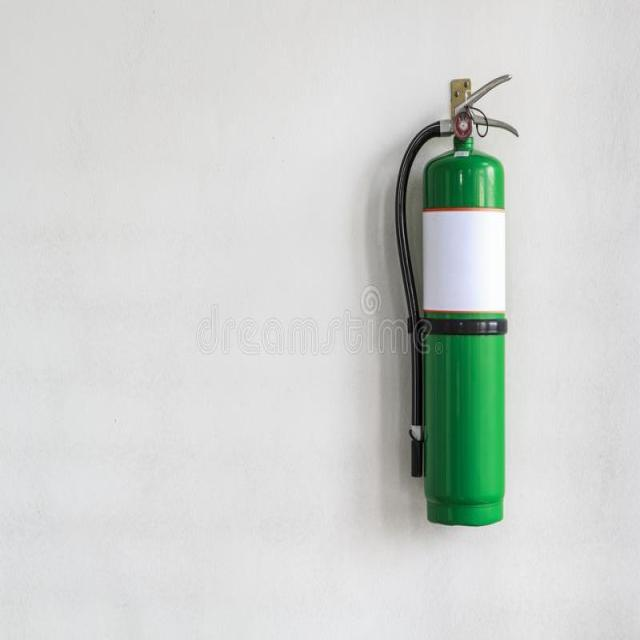fire_extinguisher: (391, 62, 523, 530)
